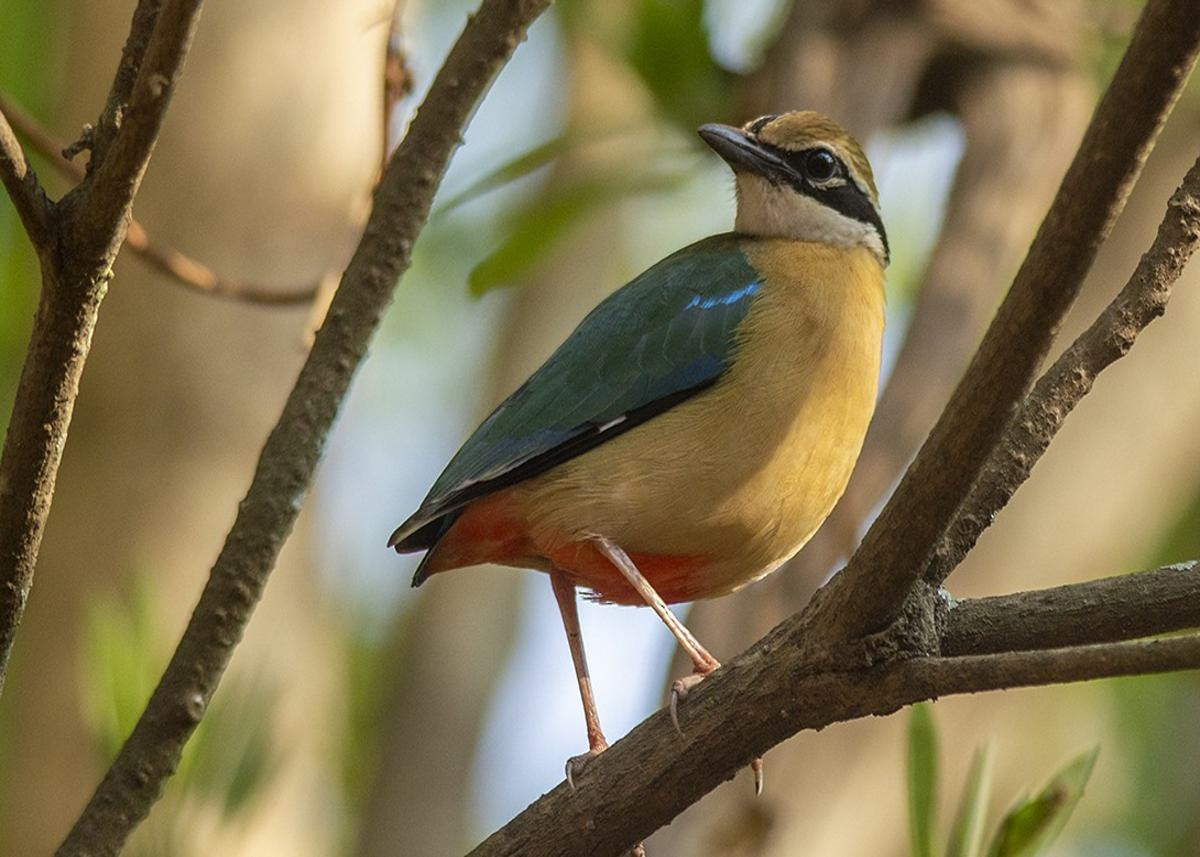pitta: (395, 76, 946, 760)
